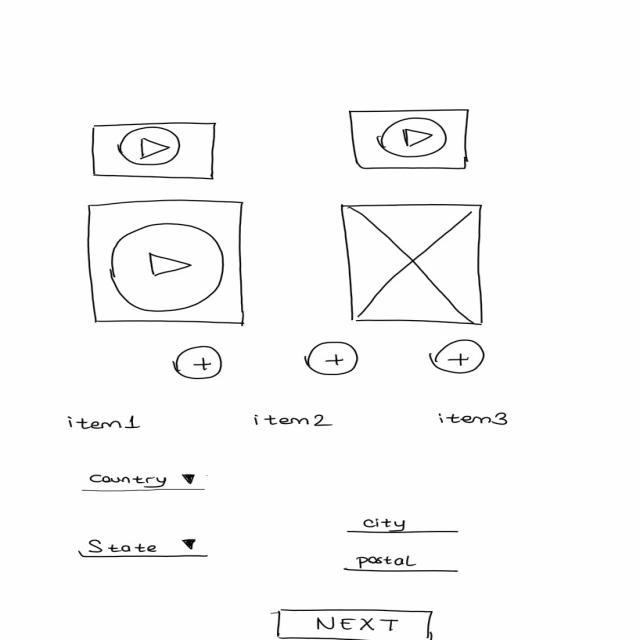button: (266, 605, 438, 640)
icon-button: (428, 338, 487, 376), (172, 344, 228, 382), (305, 341, 361, 376)
image: (339, 200, 492, 326)
input: (340, 549, 466, 577), (343, 511, 465, 537)
label: (245, 408, 338, 432), (62, 411, 146, 433), (427, 410, 522, 428)
select: (76, 466, 210, 494), (74, 532, 208, 560)
